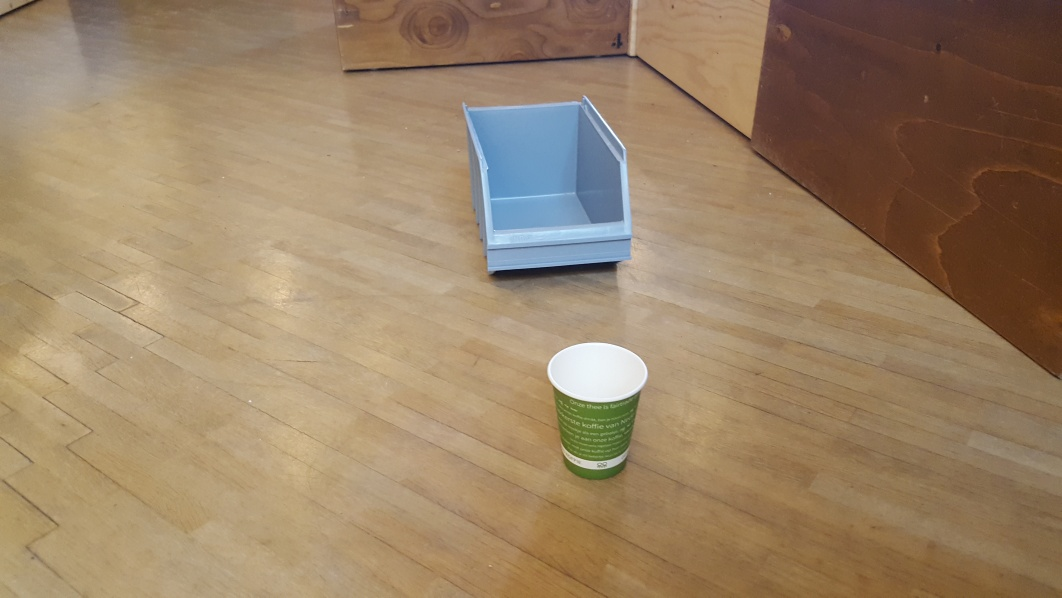cup: (547, 341, 650, 482)
tray: (459, 94, 634, 280)
